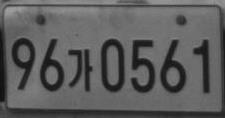0: (100, 37, 124, 92)
1: (190, 39, 217, 94)
5: (130, 38, 155, 93)
6: (159, 38, 186, 93), (39, 38, 65, 92)
9: (10, 36, 36, 90)
가: (67, 48, 93, 92)
